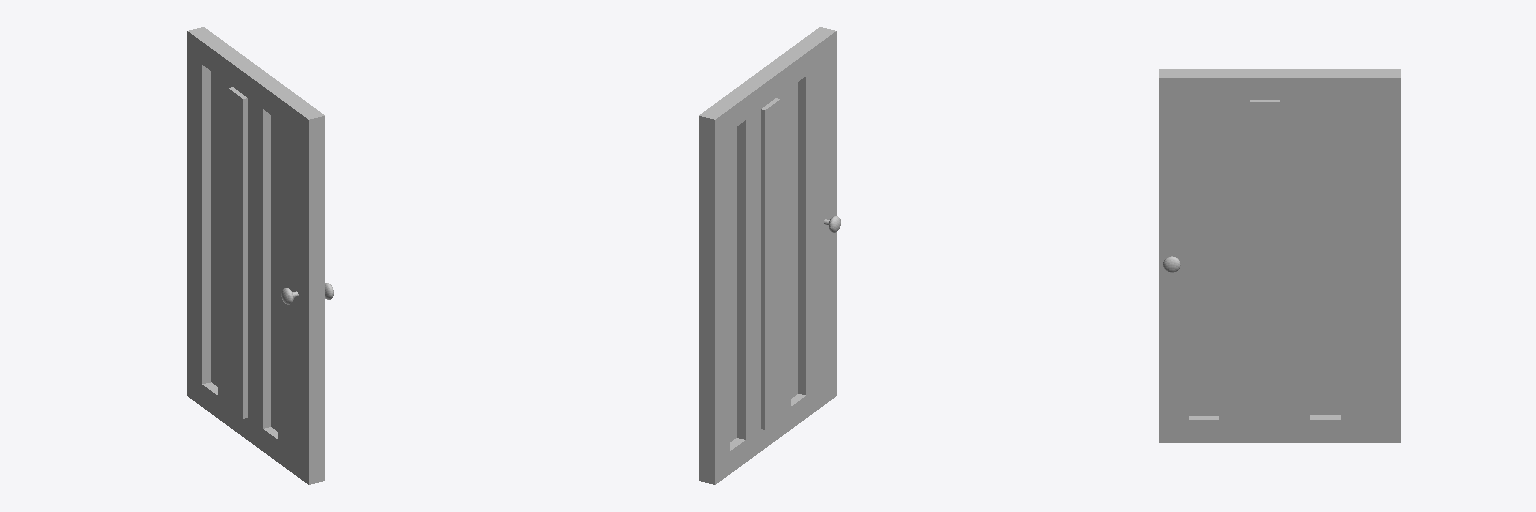
The model's file is the door.obj.
3 views of the same model, side by side, from view 1: azimuth 30°, elevation 25°; view 2: azimuth 150°, elevation 25°; view 3: azimuth 270°, elevation 25° (orthographic).
Parts seen in each view (by area): view 1: Sphere; view 2: Sphere; view 3: Sphere.
Boxes of the visible parts, x1=… form: Sphere: x1=187, y1=27, x2=333, y2=484; Sphere: x1=699, y1=27, x2=840, y2=484; Sphere: x1=1159, y1=69, x2=1400, y2=442.
Bounding box in the file's own units: 0.2536 × 2.01 × 1.21.